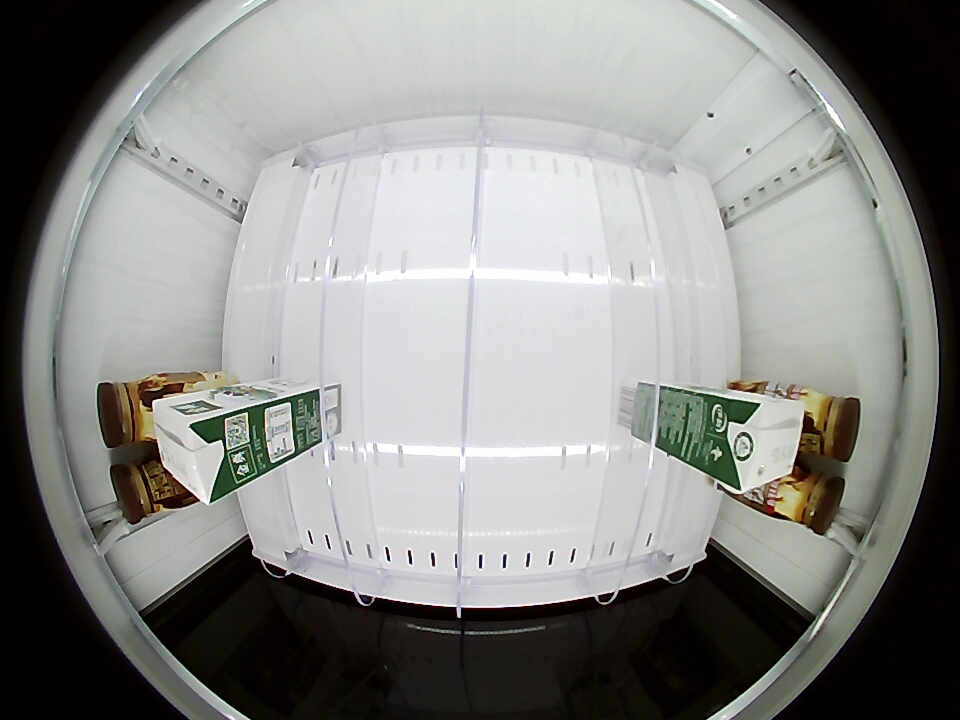jindian: (152, 387, 246, 506), (704, 387, 805, 494)
lujikafei: (97, 373, 169, 448), (793, 387, 863, 462), (110, 456, 182, 523), (777, 466, 845, 535)
